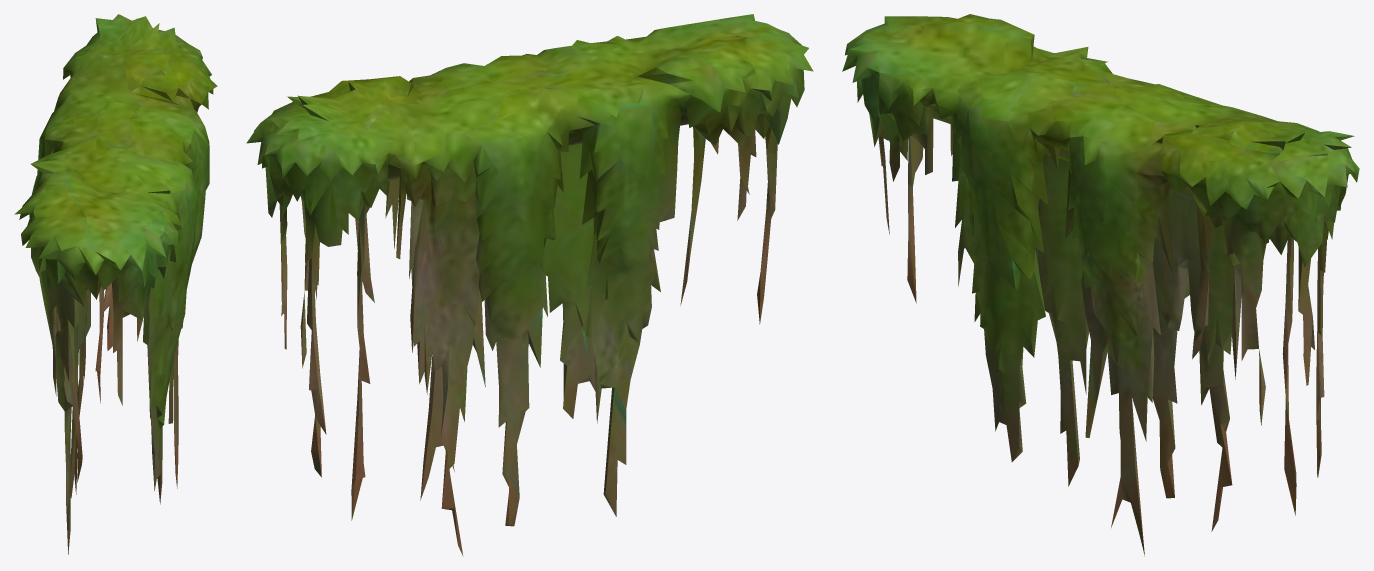
The model's file is musgo_colgante_2500.glb.
3 views of the same model, side by side, from view 1: azimuth 30°, elevation 25°; view 2: azimuth 150°, elevation 25°; view 3: azimuth 270°, elevation 25° (orthographic). The views are drawn at different scales.
Parts seen in each view (by area): view 1: musgo_colgante_malla; view 2: musgo_colgante_malla; view 3: musgo_colgante_malla.
Boxes of the visible parts, bbox=[...] form: musgo_colgante_malla: bbox=[14, 14, 217, 554]; musgo_colgante_malla: bbox=[246, 14, 813, 556]; musgo_colgante_malla: bbox=[842, 14, 1359, 556].
Size of the model in its own units: 0.1815 by 0.2196 by 0.2264.
Materials: 1 (1 with a texture image).
